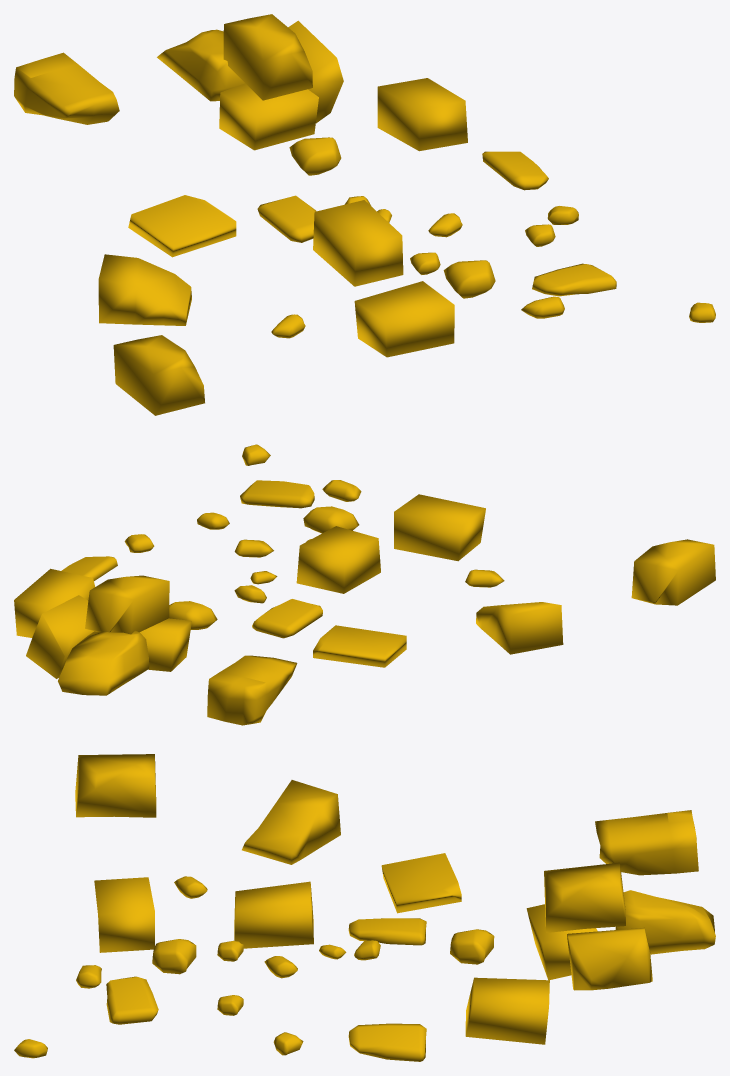
The model's file is Block_Pile_02_Lod1.fbx.
The picture shows the model from 3 angles, top to bottom: view 1: azimuth 30°, elevation 25°; view 2: azimuth 150°, elevation 25°; view 3: azimuth 270°, elevation 25°; orthographic projection. The views are drawn at different scales.
Parts seen in each view (by area): view 1: Block_Pile_02_Lod1; view 2: Block_Pile_02_Lod1; view 3: Block_Pile_02_Lod1.
Boxes of the visible parts, box(x1,y1,x2,y2) form: Block_Pile_02_Lod1: box(14, 14, 715, 415); Block_Pile_02_Lod1: box(14, 444, 715, 725); Block_Pile_02_Lod1: box(14, 754, 715, 1061).
Size of the model in its own units: 1844 by 370 by 2121.
